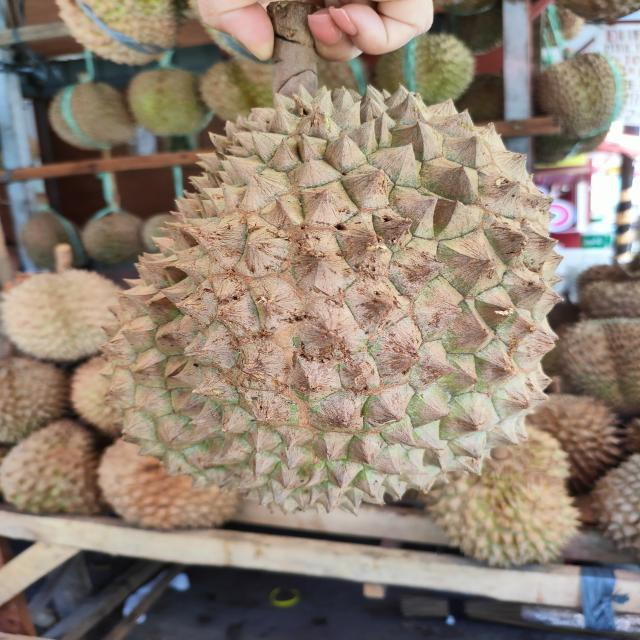mature: (100, 85, 570, 517)
